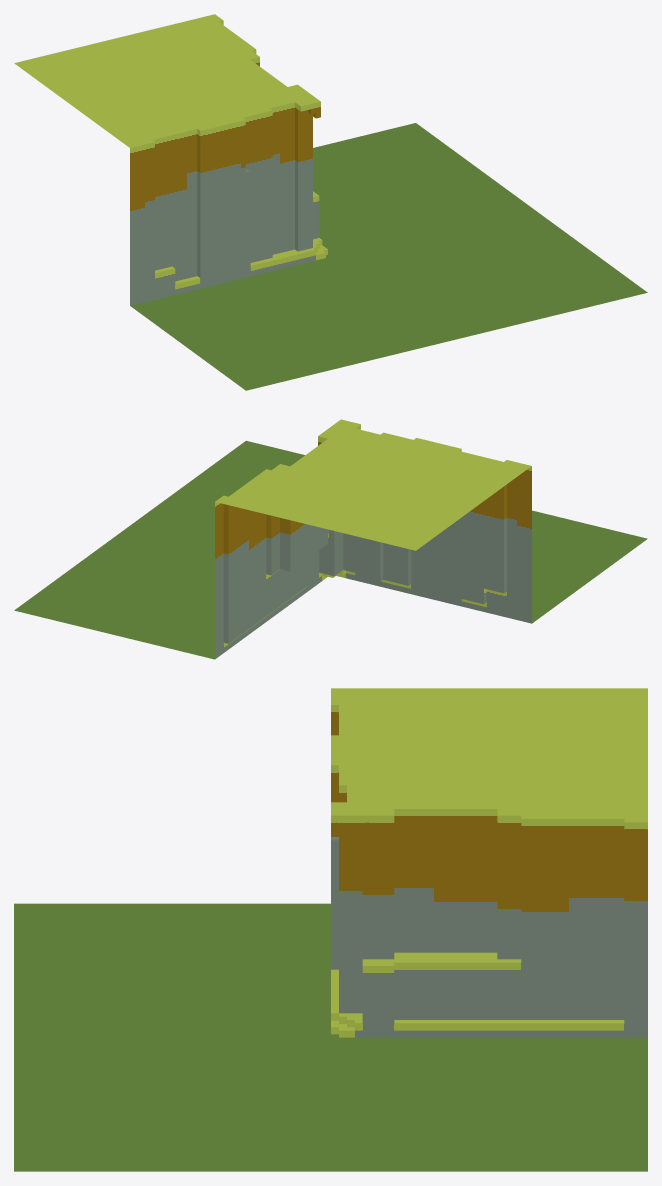
File: MLLL(2).glb
3 renders of one model, top to bottom at view 1: azimuth 30°, elevation 25°; view 2: azimuth 150°, elevation 25°; view 3: azimuth 270°, elevation 25°, orthographic. The views are drawn at different scales.
Parts seen in each view (by area): view 1: model_0.003; view 2: model_0.003; view 3: model_0.003.
Part boxes in pixels (box(x1,y1,x2,y2)): model_0.003: box(14, 14, 647, 390); model_0.003: box(14, 419, 647, 659); model_0.003: box(14, 688, 647, 1171).
Size of the model in its own units: 80 by 30 by 80.
Materials: 1 (1 with a texture image).
